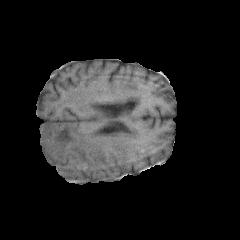glioma: (40, 96, 139, 176)
